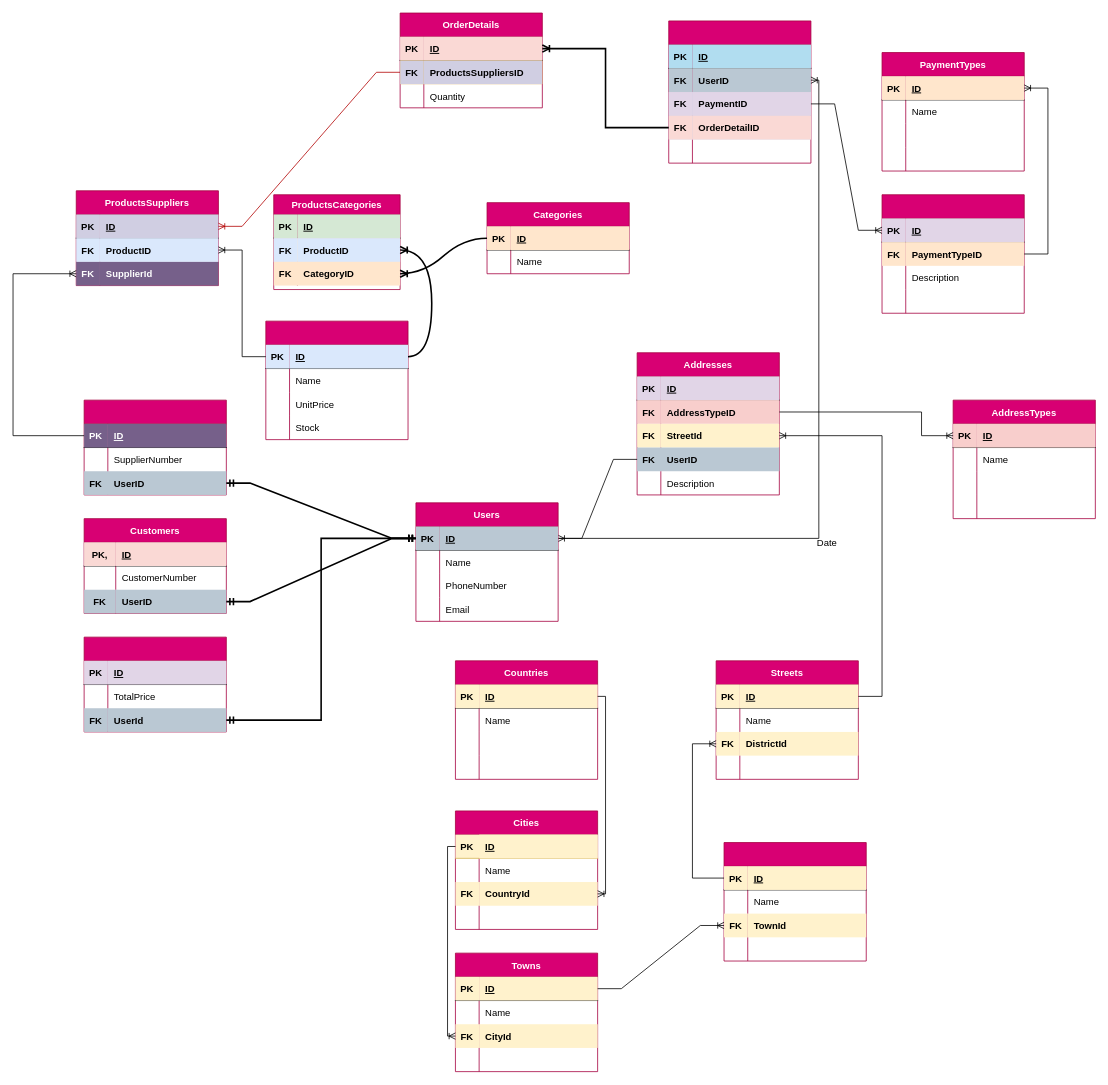
The diagram is 1108 pixels wide and 1085 high, and some of its shapes have lost their labels. Here are the shapes that lost their labels. From the top down, the box of each, then its label:
(668, 20, 811, 163): Orders
(881, 194, 1024, 313): Payments
(265, 320, 408, 440): Products
(83, 399, 226, 495): Suppliers
(83, 636, 226, 732): Carts
(723, 842, 866, 961): Districts
